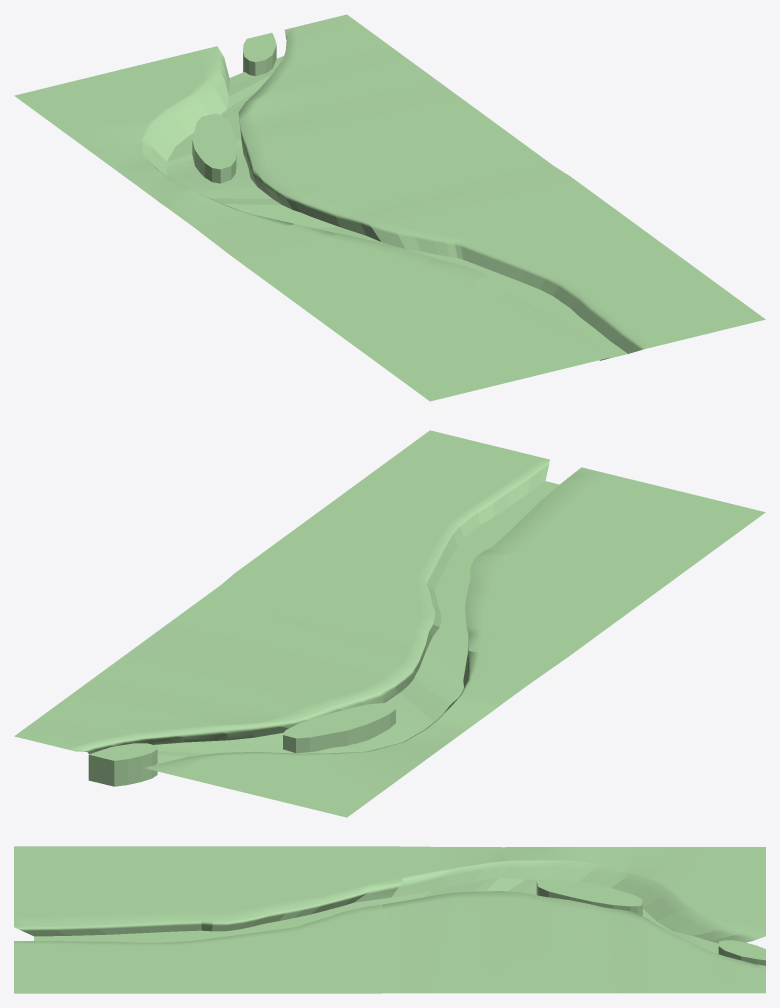
File: landcorected.fbx
The picture shows the model from 3 angles, top to bottom: view 1: azimuth 30°, elevation 25°; view 2: azimuth 150°, elevation 25°; view 3: azimuth 270°, elevation 25°; orthographic projection. The views are drawn at different scales.
Visible parts, largest first — view 1: polySurface15; view 2: polySurface15; view 3: polySurface15.
Part boxes in pixels (x1,y1,x2,y2): polySurface15: (14, 14, 765, 401); polySurface15: (14, 430, 765, 817); polySurface15: (14, 846, 765, 993).
Size of the model in its own units: 6055 by 473 by 13034.
